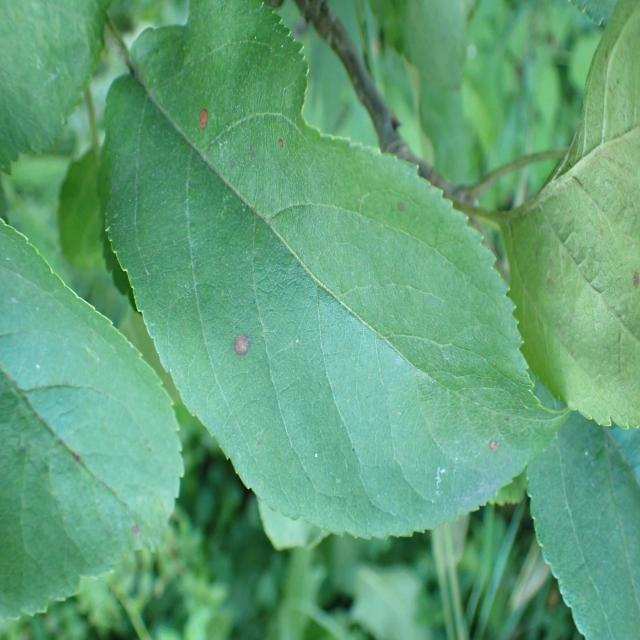Black Rot: (221, 304, 258, 382), (472, 419, 509, 458), (188, 90, 216, 140)
scab: (216, 50, 444, 282), (517, 3, 640, 393), (0, 351, 168, 564)
